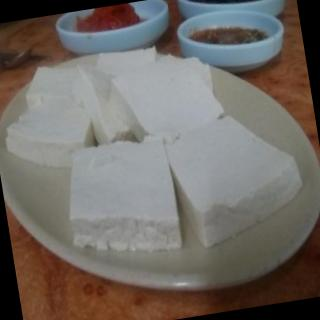Tahu: (6, 48, 302, 252)
